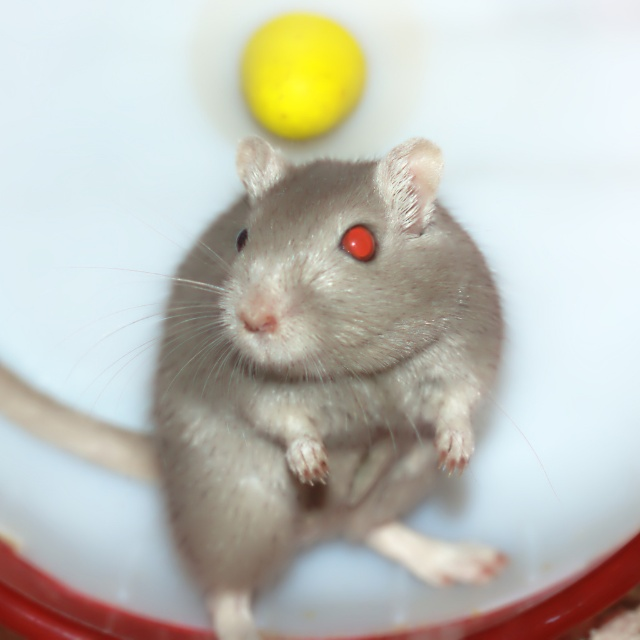Mouse: (68, 135, 549, 640)
